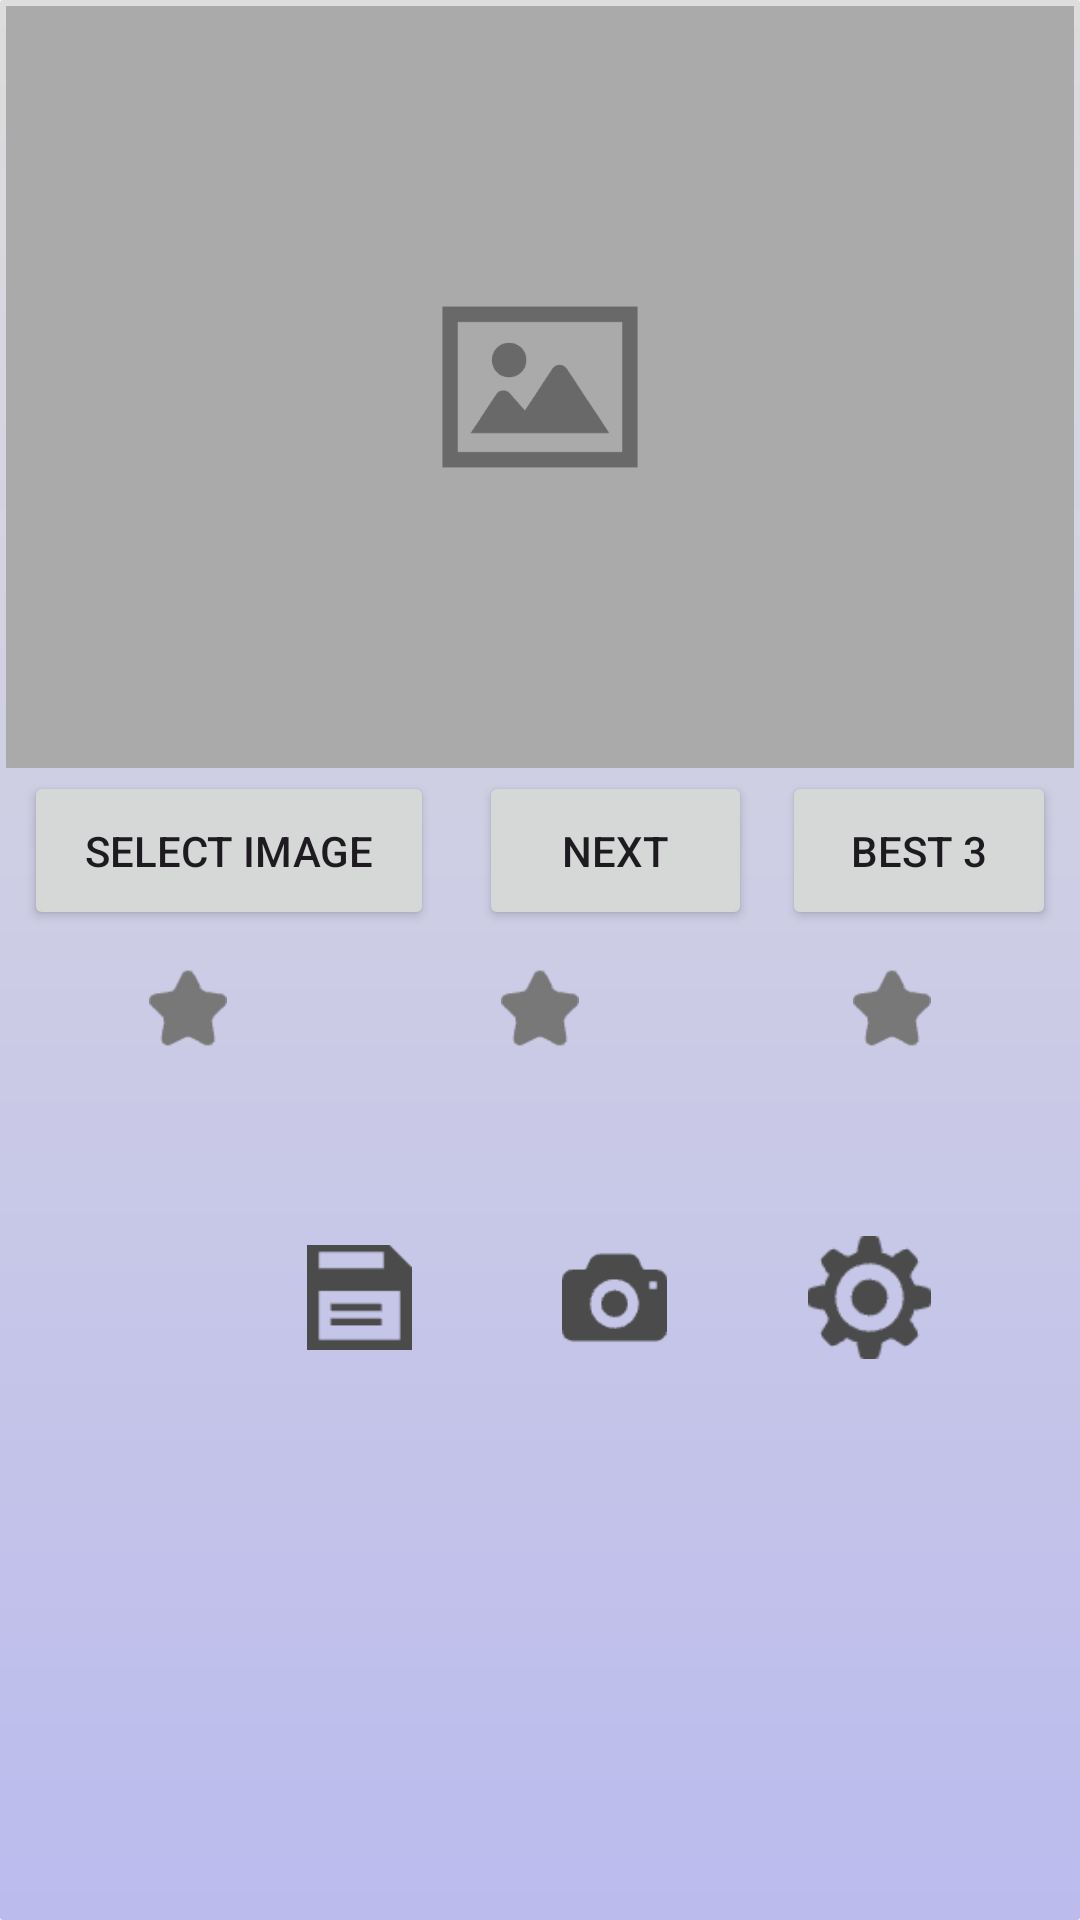

Icon bounding boxes for this 1080×1920 phone screenshot, format (x1, y1, x2, y2):
camera: (562, 1253, 667, 1342)
save: (307, 1245, 412, 1350)
setup: (808, 1236, 931, 1359)
star ng: (149, 970, 227, 1046), (501, 970, 579, 1046), (853, 970, 931, 1046)
